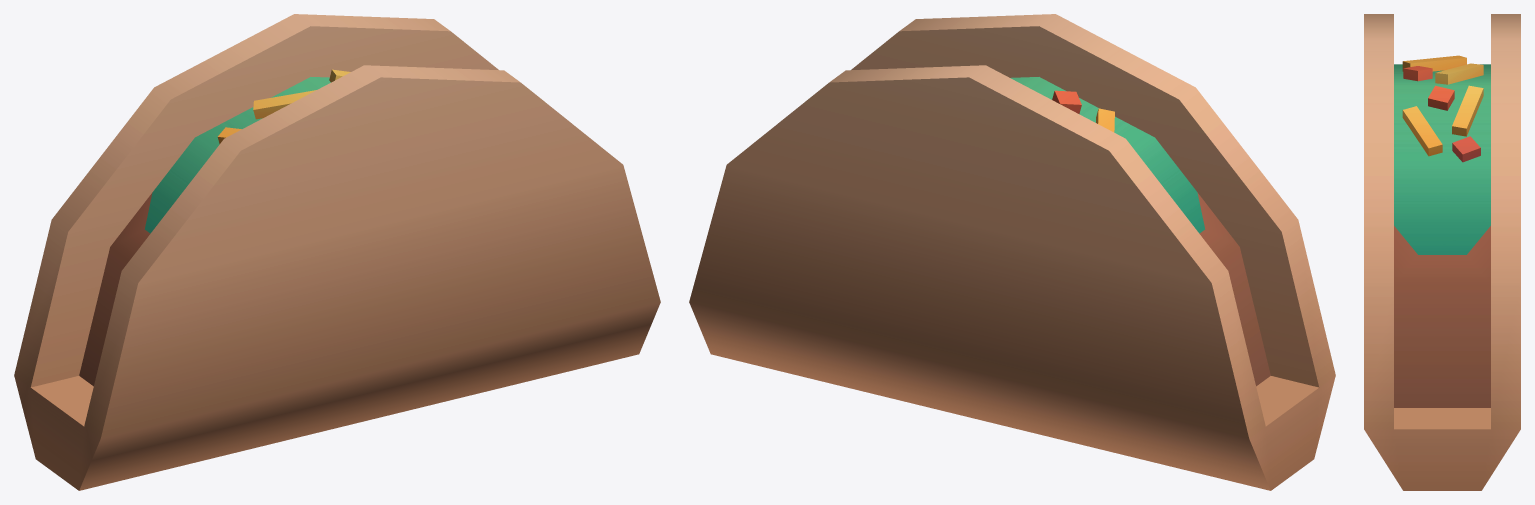
Rendered from taco.glb.
The picture shows the model from 3 angles, left to right: view 1: azimuth 30°, elevation 25°; view 2: azimuth 150°, elevation 25°; view 3: azimuth 270°, elevation 25°; orthographic projection. The views are drawn at different scales.
Visible parts, largest first — view 1: taco; view 2: taco; view 3: taco.
Part boxes in pixels (x1,y1,x2,y2): taco: (14, 14, 660, 490); taco: (689, 14, 1335, 490); taco: (1364, 14, 1520, 490).
Bounding box in the file's own units: 0.4256 × 0.2622 × 0.114.
Materials: 1 (1 with a texture image).
